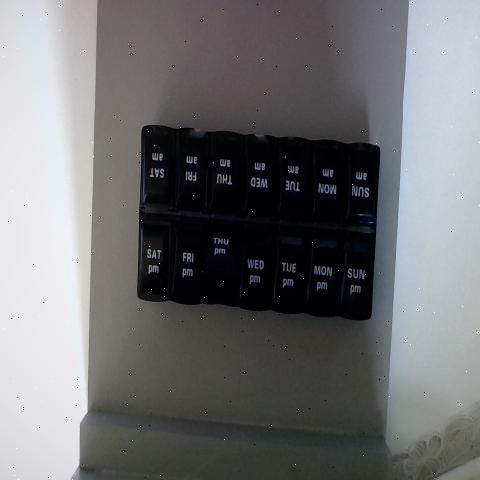FRI-am: (177, 133, 206, 210)
FRI-pm: (168, 215, 202, 302)
MON-am: (308, 140, 343, 221)
MON-pm: (298, 232, 334, 316)
Open: (201, 225, 233, 302)
PillBox: (124, 107, 385, 351)
SAT-am: (140, 127, 175, 209)
SAT-pm: (134, 221, 166, 298)
SUN-am: (344, 140, 376, 226)
SUN-pm: (336, 233, 370, 316)
THU-am: (208, 130, 241, 212)
TUE-am: (276, 138, 307, 218)
TUE-pm: (268, 231, 300, 311)
WED-am: (243, 135, 275, 218)
WED-pm: (236, 229, 271, 308)
